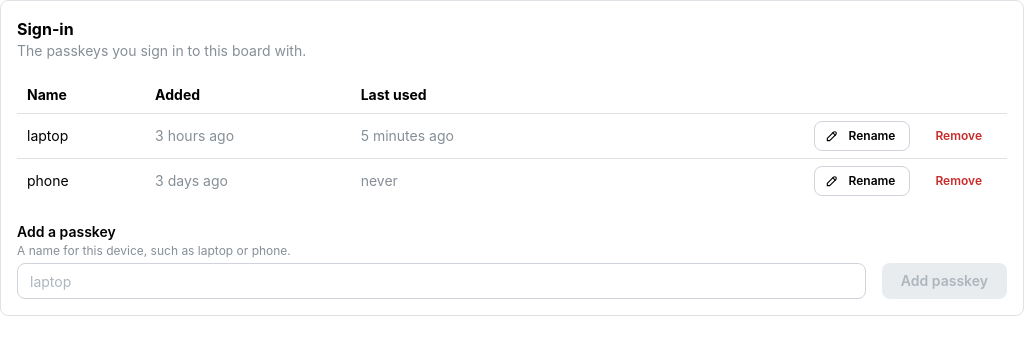
Test: the passkeys section › shows a refusal by the board next to the name field
Type "phone" into the field labelled "Add a passkey".
click(441, 281); type("phone")  # box [17, 263, 866, 299]
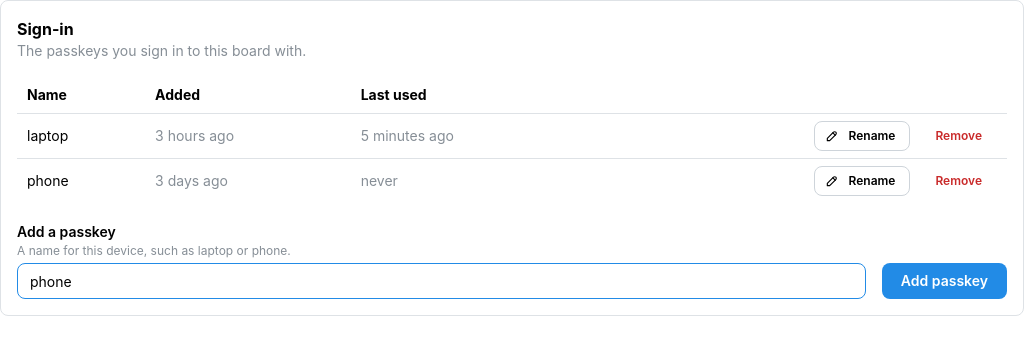
Click the button "Add passkey".
click(944, 281)  # box [882, 263, 1007, 299]
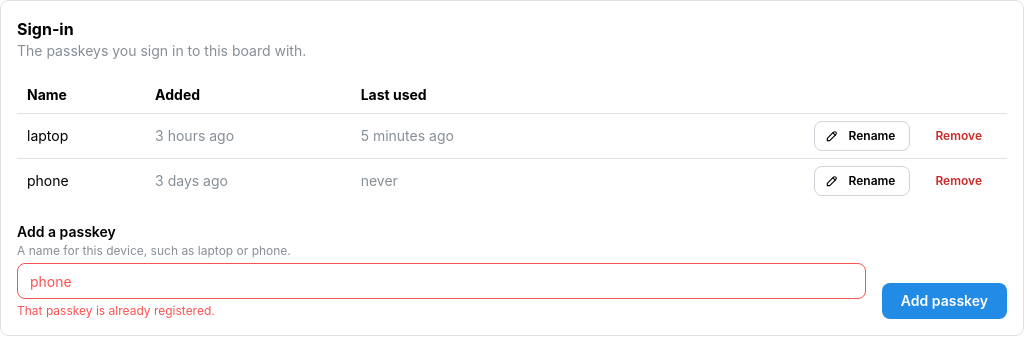
Expected: the text "That passkey is already registered." is shown, [17, 303, 215, 318]
